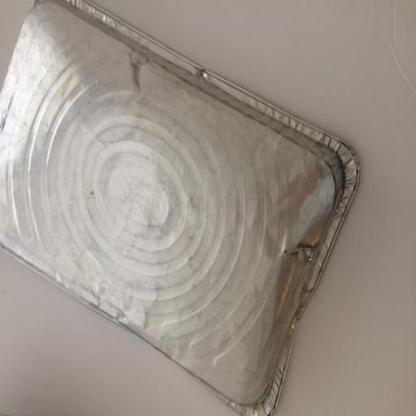Metal: (0, 2, 360, 415)
